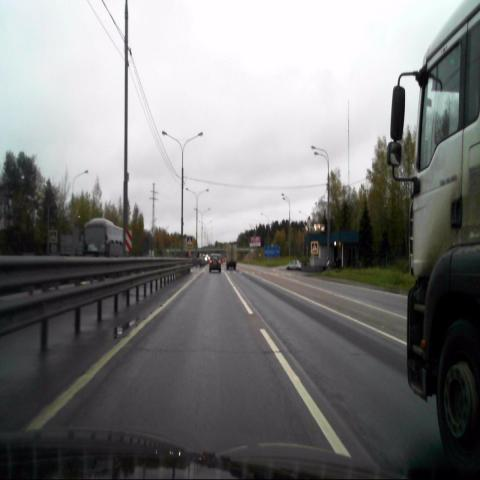5_19_1: (311, 241, 319, 254), (186, 235, 193, 248)
